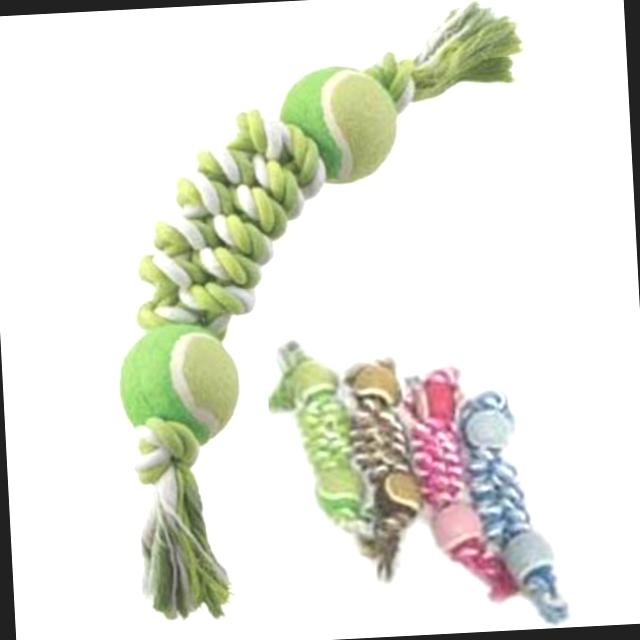Tennis Ball: (119, 321, 243, 452), (276, 60, 405, 184)
